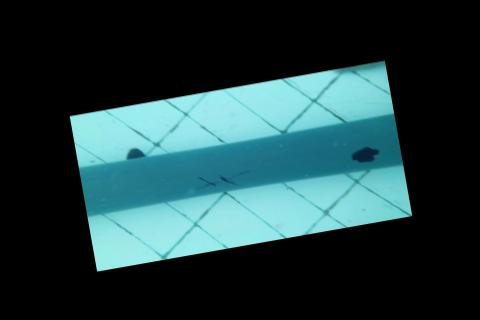kebocoran: (349, 142, 382, 165)
keretakan: (195, 166, 251, 193)
